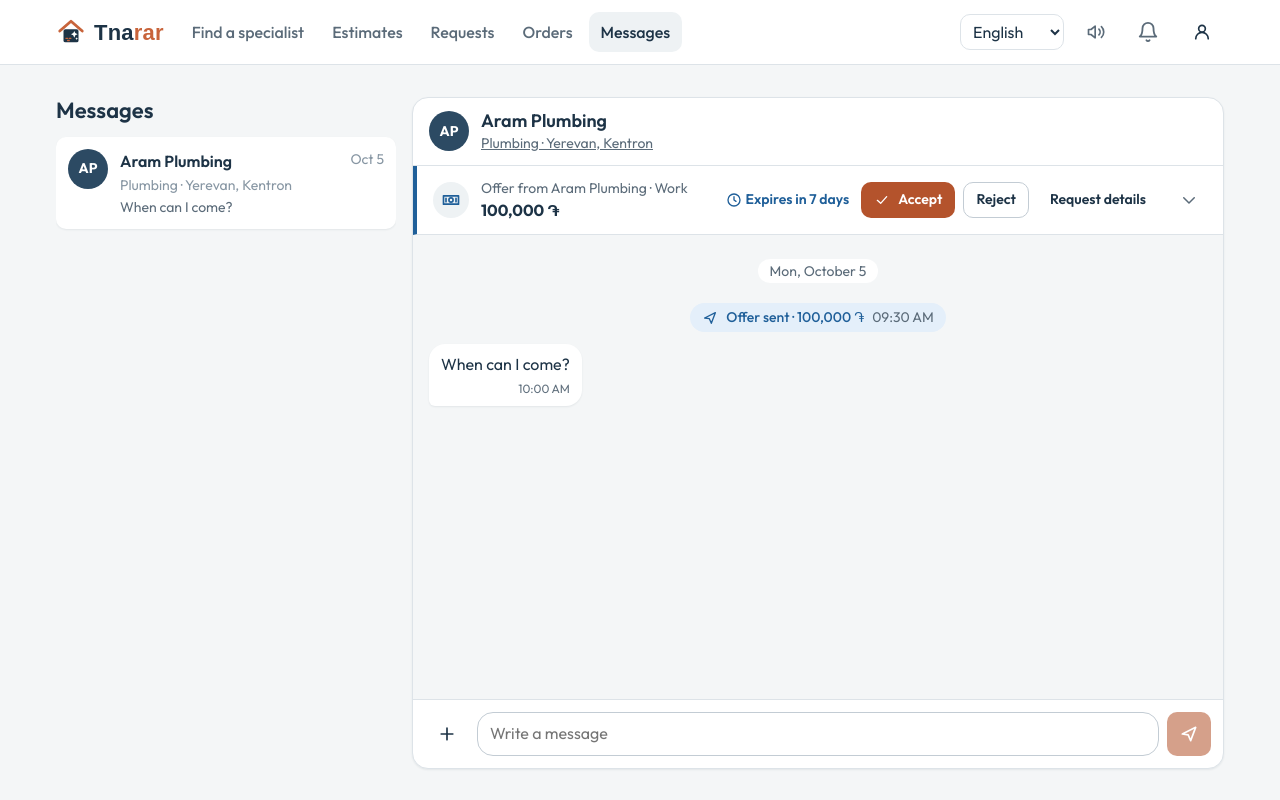
Test: Offer in the chat › lets the customer accept the offer right in the chat and stay there, with a link to the new order
Check: the element "Offer from Aram Plumbing" shows "100,000 ֏", box [481, 200, 559, 220]
Click the button "Accept": coordinates (908, 200) [861, 182, 955, 218]
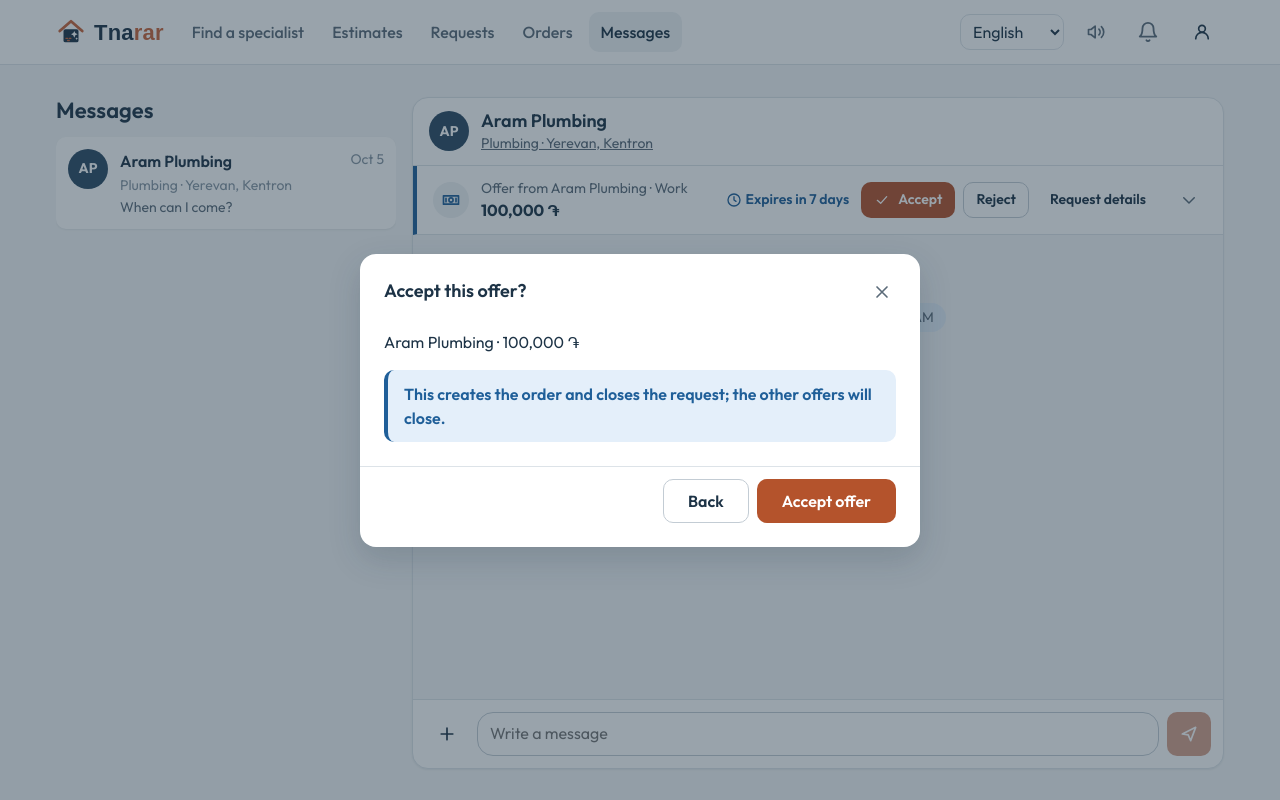
Check: the dialog "Accept this offer?" shows "Aram Plumbing", box [384, 332, 579, 352]
Click the button "Accept offer": coordinates (826, 500) [757, 478, 896, 522]
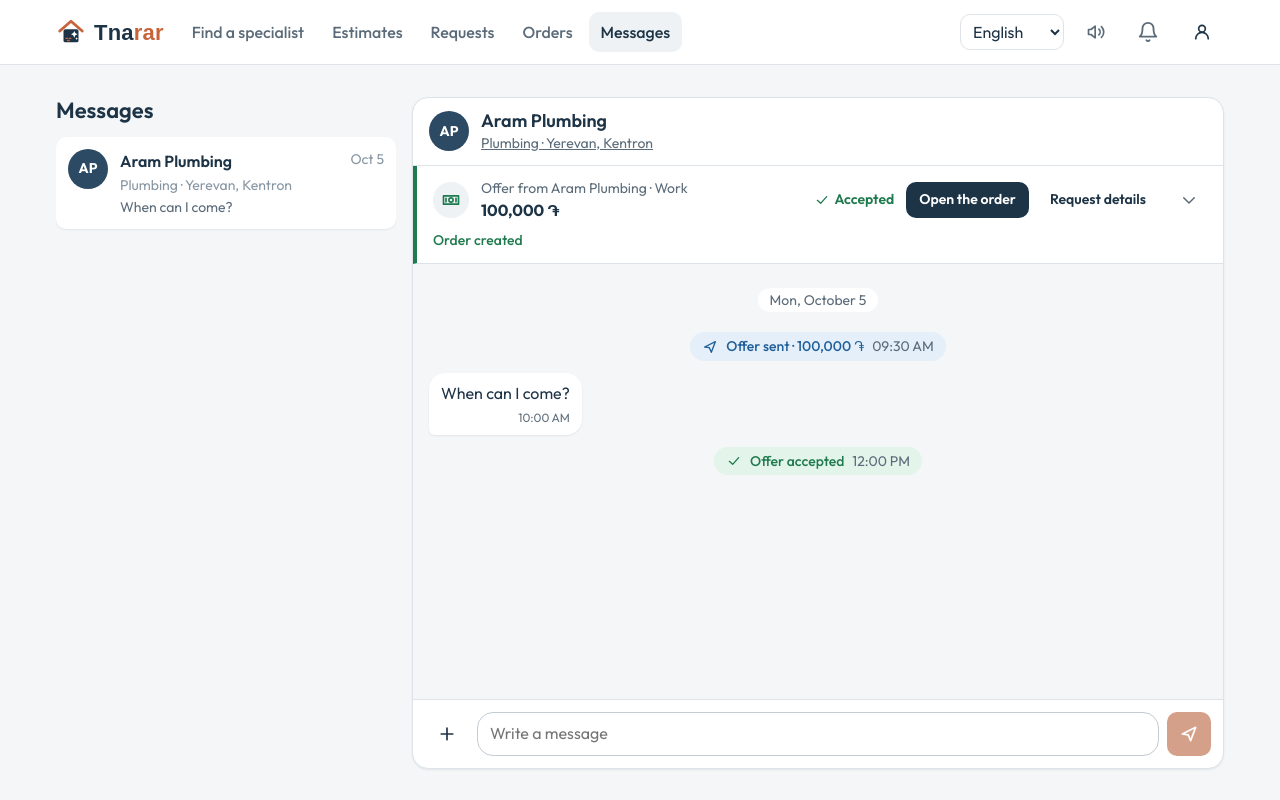
Check: the text "Order created" is shown, box [433, 231, 523, 249]
Check: the text "Offer accepted" is shown, box [750, 451, 844, 471]
